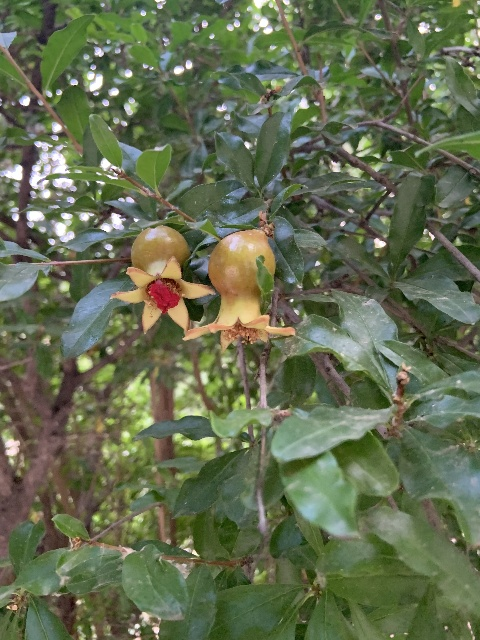early-fruit: (181, 229, 296, 353), (109, 225, 215, 337)
